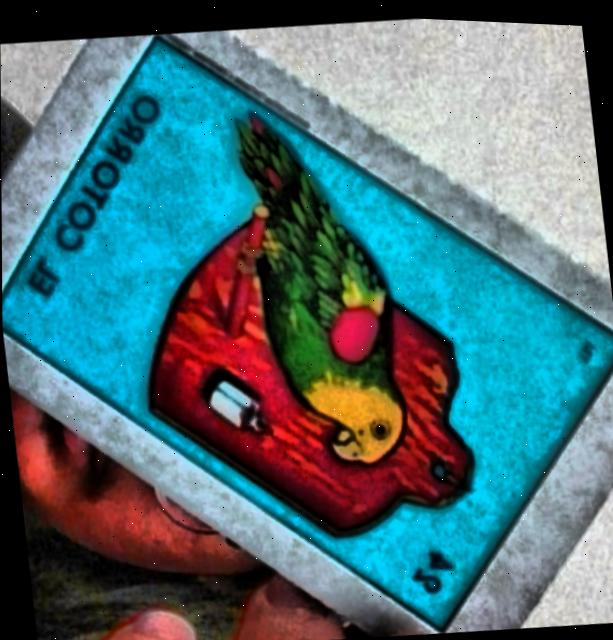El Cotorro: (2, 34, 613, 625)
